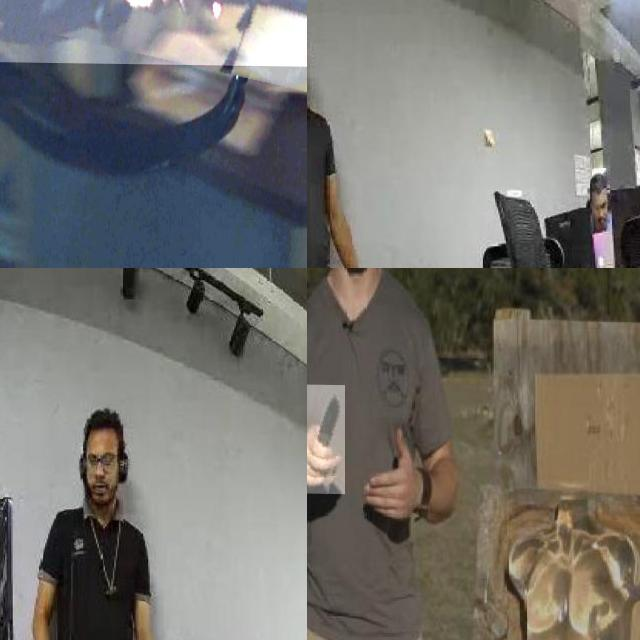-: (307, 383, 345, 493)
gun-knife-thesis - v11 Yolov5 augmented: (0, 0, 307, 112)
